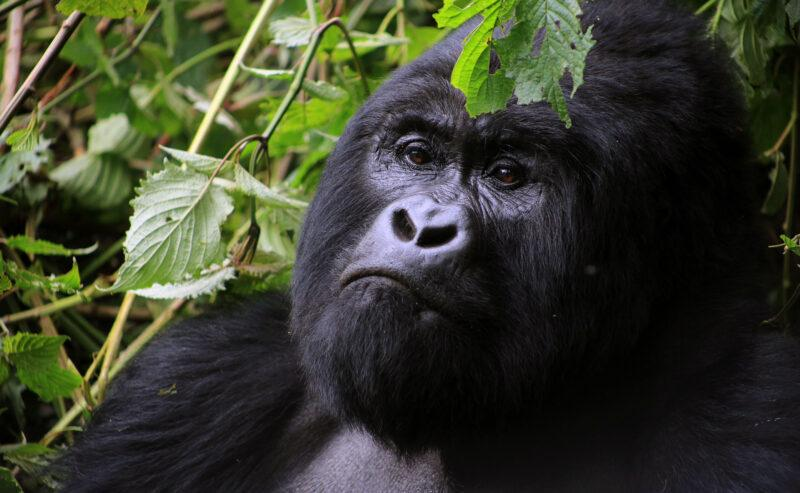goriile_montagne: (111, 4, 794, 493)
